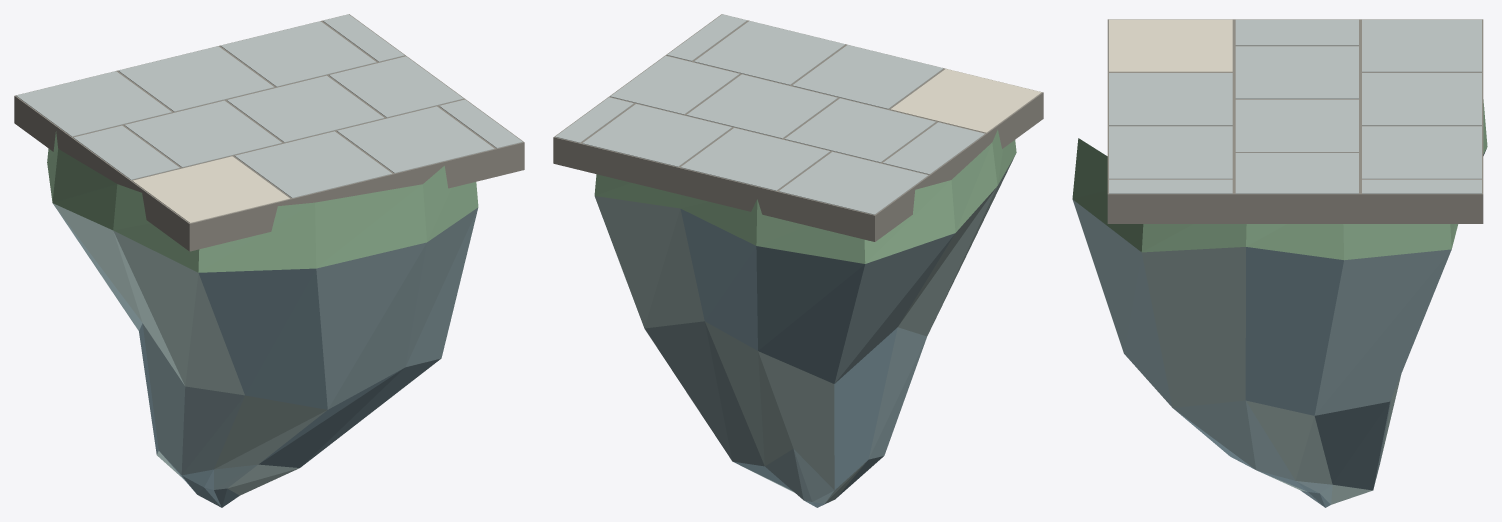
File: FloatingIsland23.glb
3 renders of one model, left to right at view 1: azimuth 30°, elevation 25°; view 2: azimuth 150°, elevation 25°; view 3: azimuth 270°, elevation 25°, orthographic. The views are drawn at different scales.
Visible parts, largest first — view 1: FloatingIsland23; view 2: FloatingIsland23; view 3: FloatingIsland23.
Boxes of the visible parts, left/top/right/bottom form: FloatingIsland23: left=14, top=14, right=524, bottom=507; FloatingIsland23: left=553, top=14, right=1043, bottom=507; FloatingIsland23: left=1072, top=19, right=1487, bottom=507.
Size of the model in its own units: 3.67 by 3.84 by 3.45.
